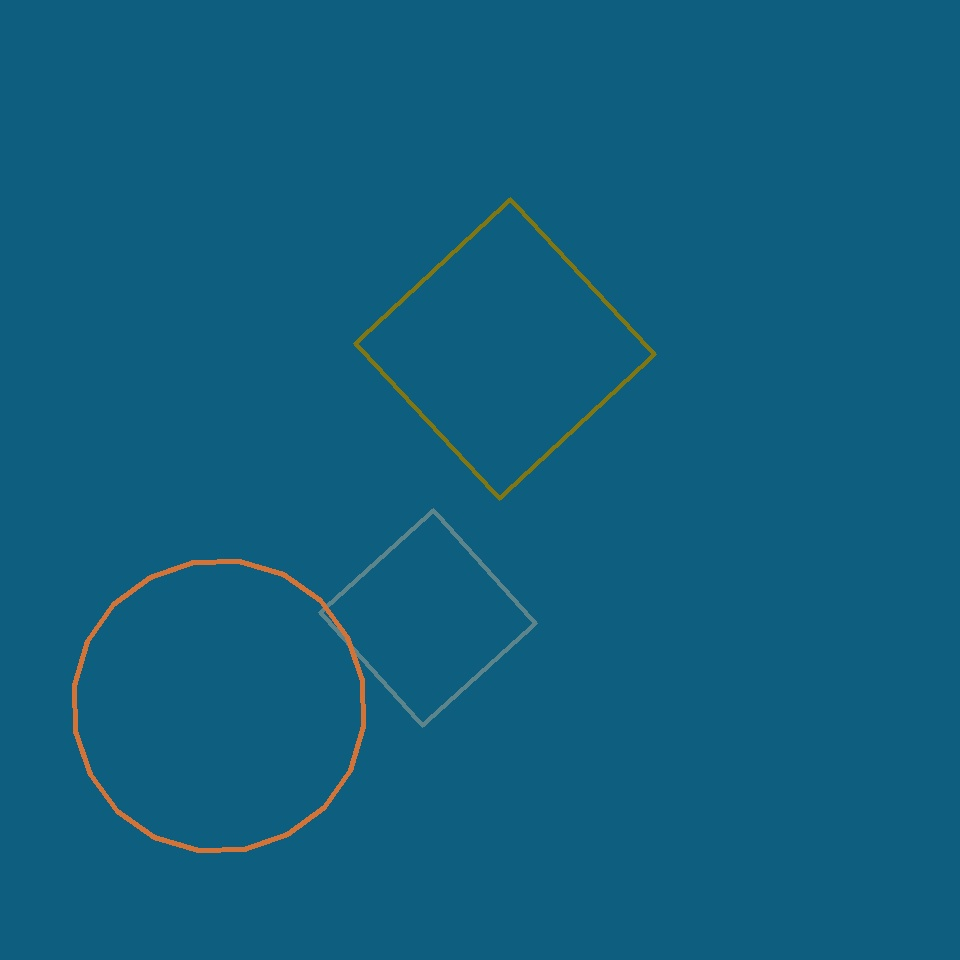square: (355, 199, 654, 498), (320, 511, 536, 726)
triangle: (74, 562, 364, 850)
